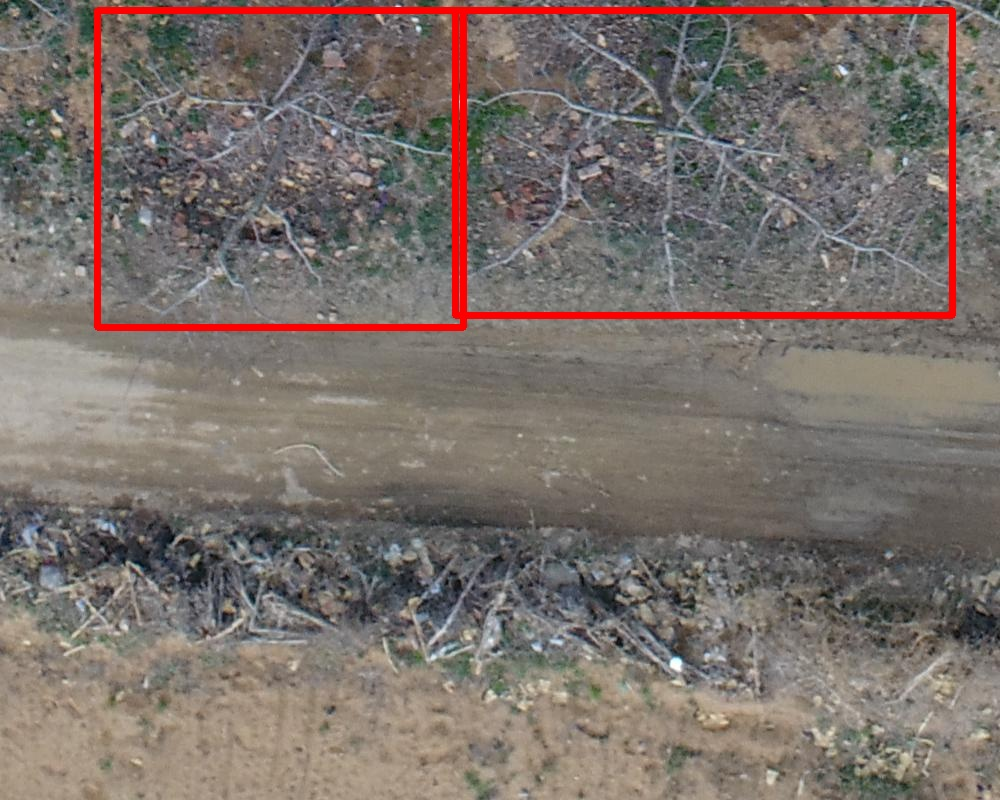apple: (455, 10, 952, 315), (97, 10, 463, 327)
